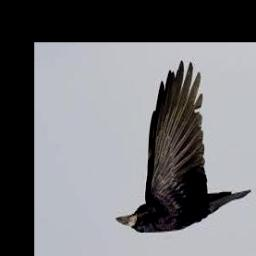Crow: (115, 64, 250, 233)
